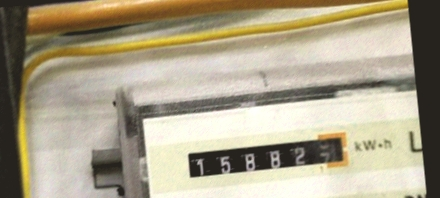1: (194, 157, 205, 176)
2: (293, 145, 306, 166)
5: (216, 154, 232, 174)
7: (317, 149, 330, 163)
8: (267, 147, 282, 169), (243, 151, 257, 172)
screen: (181, 129, 353, 186)
